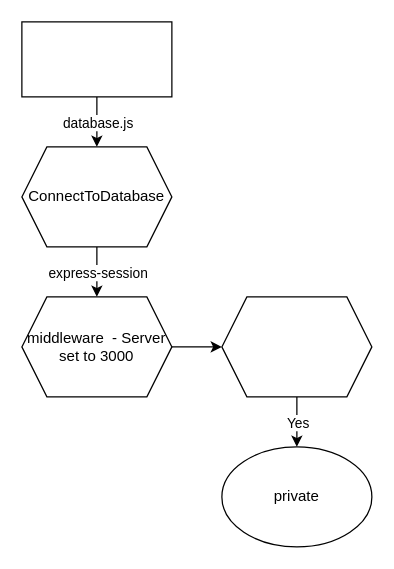
Image size: 394x569. Some labels were removed from this diagram. Here are the shapes that lost their labels. From the top down, the centre of each, then its label:
At (x=96, y=59): "Import packages and functions".
At (x=296, y=346): "isAuthenticated".
